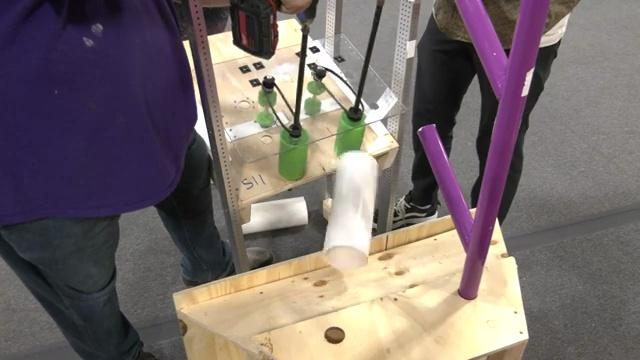CORAL: (321, 149, 379, 270), (242, 197, 309, 236)
